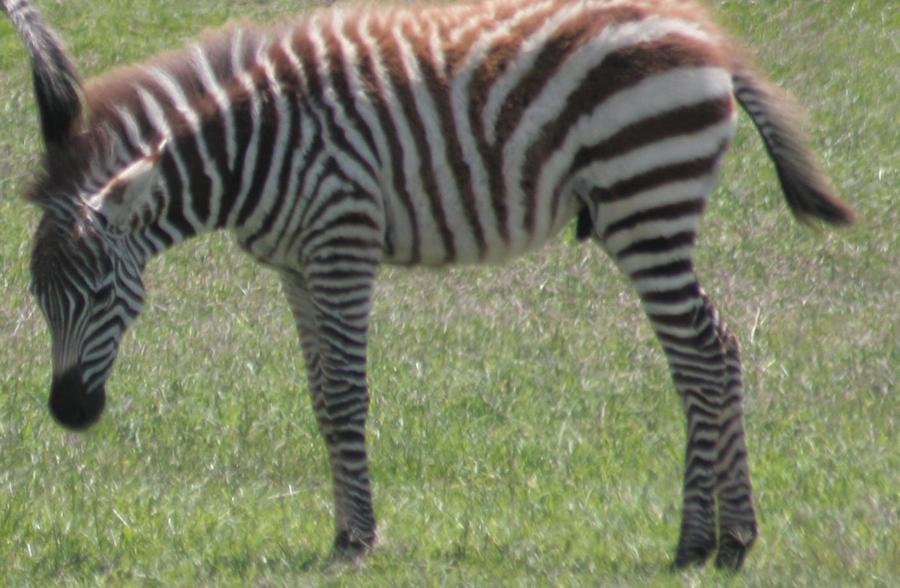zebra_plains: (195, 22, 755, 351)
